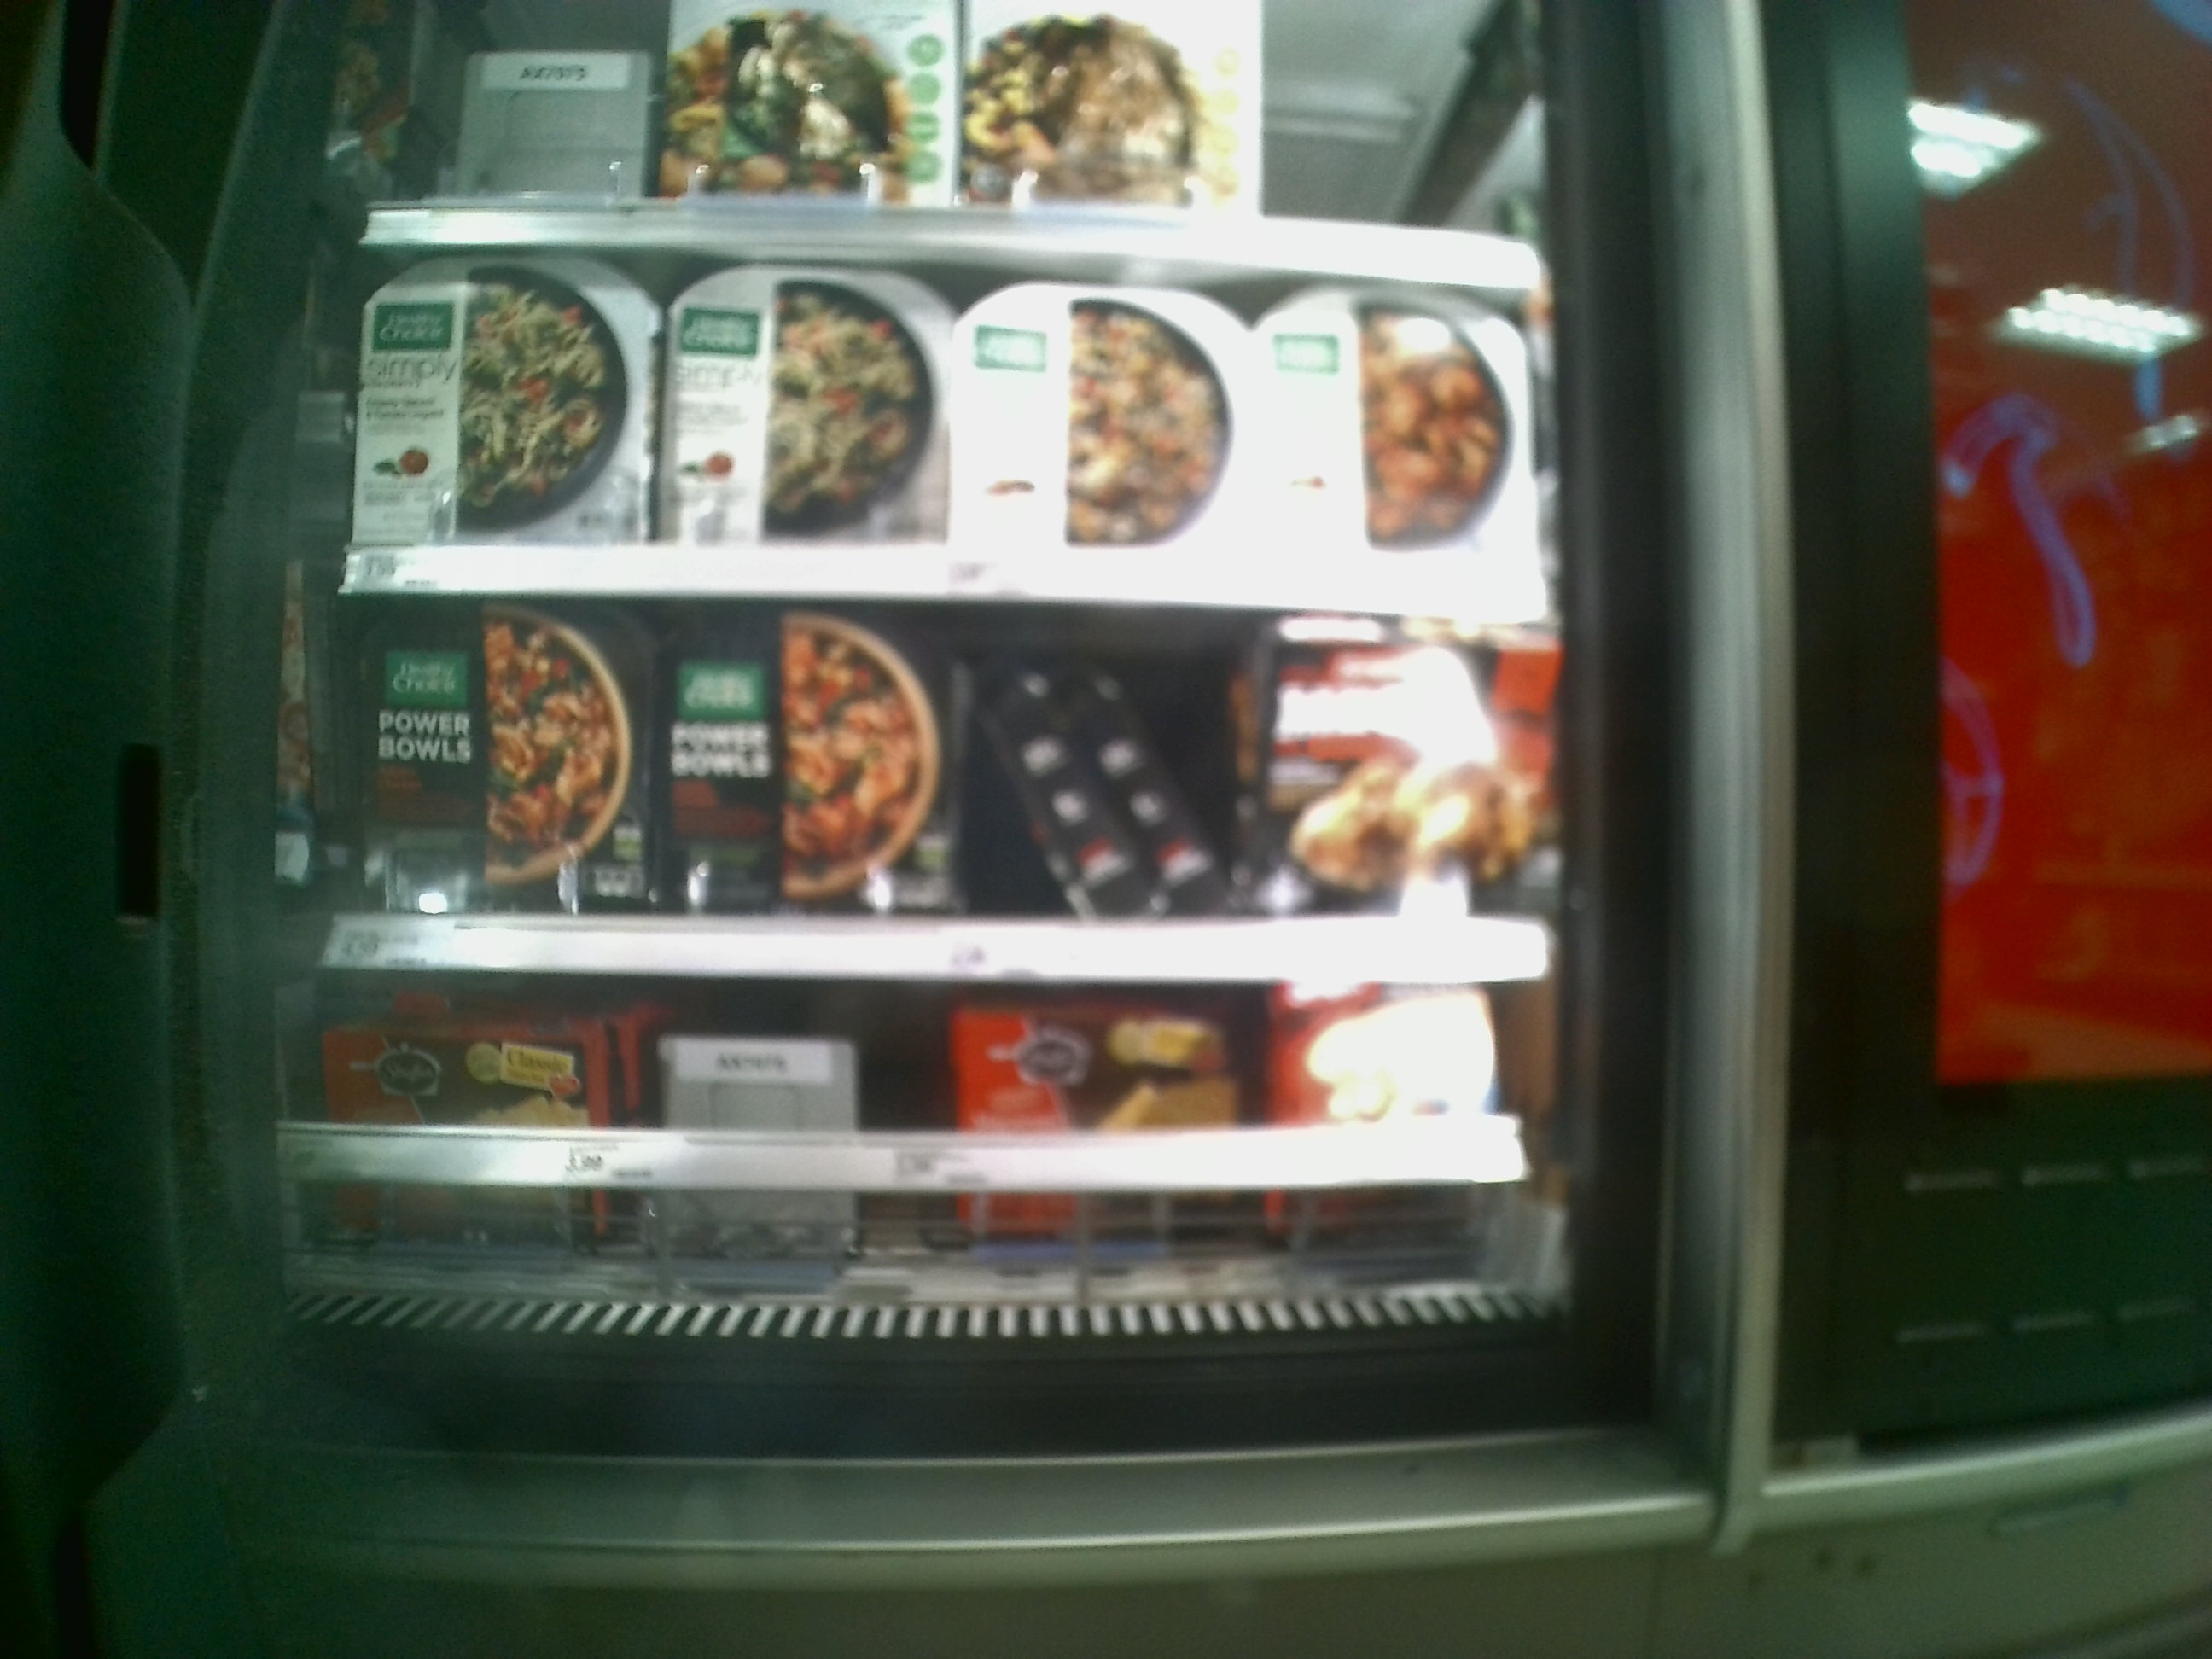shelf: (334, 598, 1568, 986), (340, 239, 1552, 629), (319, 976, 1585, 1324)
